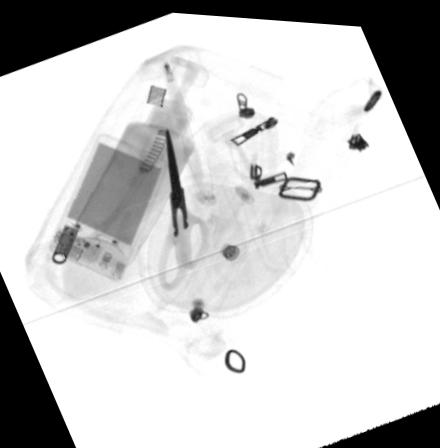Powerbank: (47, 129, 170, 280)
Scissors: (158, 126, 214, 290)
